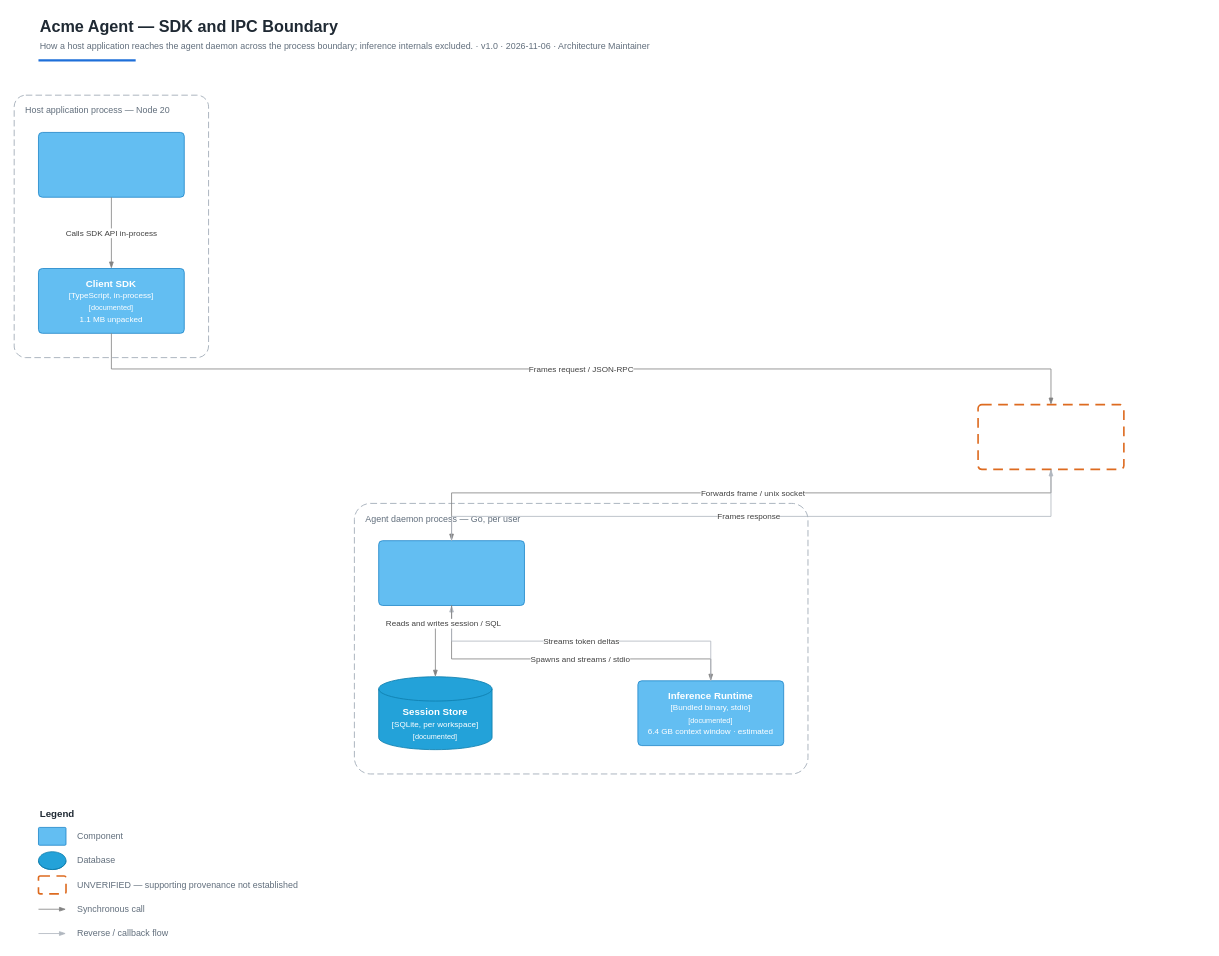
The diagram is 1219 pixels wide and 956 high, and some of its shapes have lost their labels. The shapes that lost their labels are listed below. From the top down, each one's centre as x and y in pixels, then its label:
point 111,164: Host Application [CLI or IDE plugin] [documented]
point 1050,436: IPC Transport [Unix socket, length-prefixed JSON] [unverified] ⚠ UNVERIFIED
point 451,572: Agent Daemon [Go, one per user session] [documented] ~35 MB RSS idle · measured
